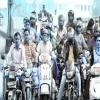motorcycles: (62, 57, 78, 100), (38, 54, 52, 100), (4, 65, 22, 100), (88, 61, 100, 99), (24, 64, 33, 98)
